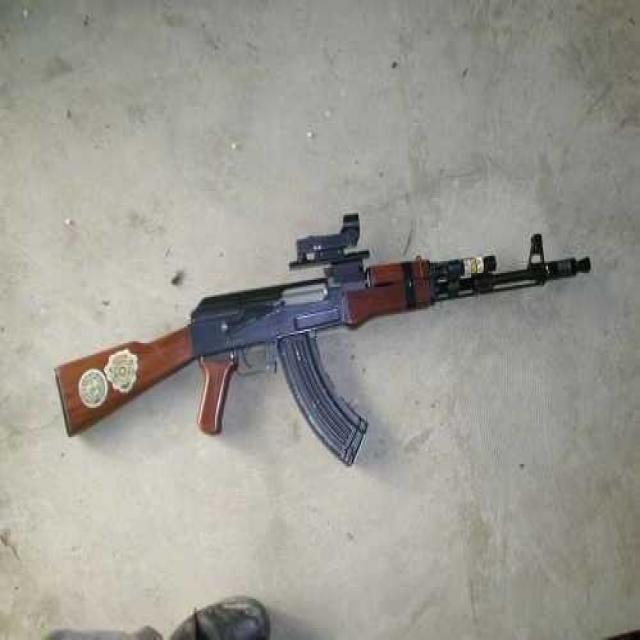weapon: (32, 162, 611, 480)
